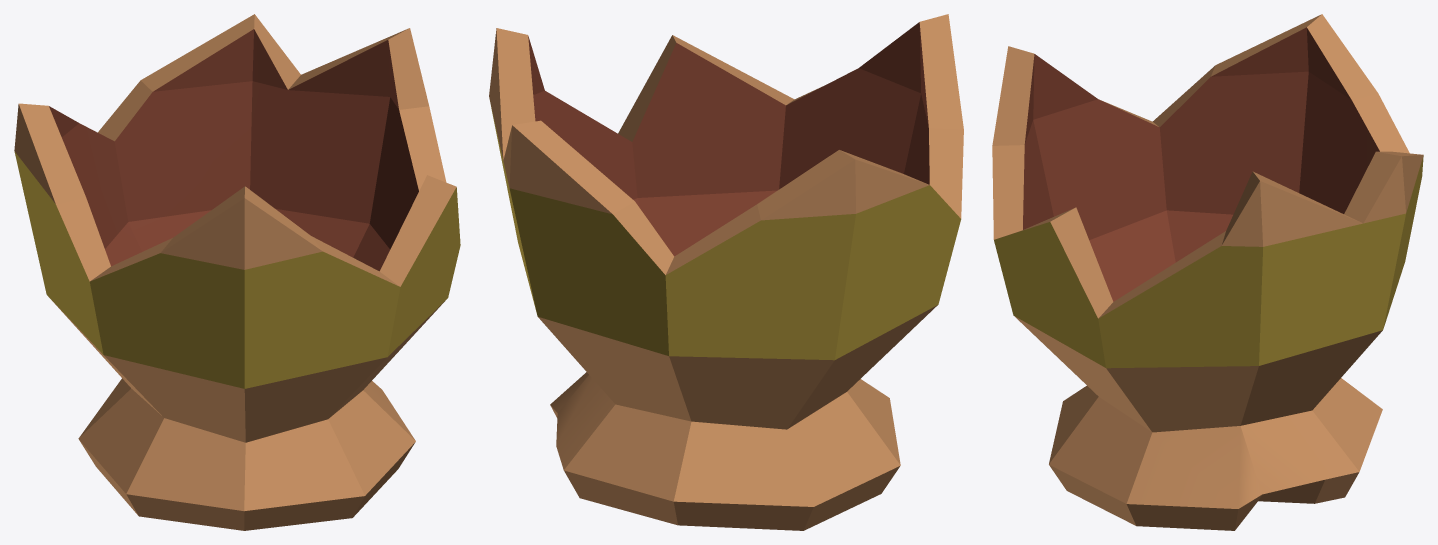
File: Jarron_Roto-1.FBX
The picture shows the model from 3 angles, left to right: view 1: azimuth 30°, elevation 25°; view 2: azimuth 150°, elevation 25°; view 3: azimuth 270°, elevation 25°; orthographic projection. The views are drawn at different scales.
Parts seen in each view (by area): view 1: Jarron_Roto-1; view 2: Jarron_Roto-1; view 3: Jarron_Roto-1.
Part boxes in pixels (bbox=[...]): Jarron_Roto-1: bbox=[14, 14, 460, 530]; Jarron_Roto-1: bbox=[489, 14, 963, 530]; Jarron_Roto-1: bbox=[992, 14, 1423, 530].
Bounding box in the file's own units: 56.61 × 54.24 × 55.03.
1 material, 1 textured.
